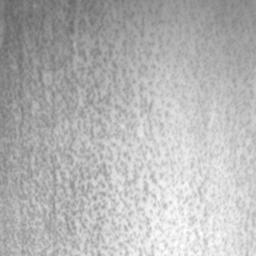Pitted surface: (0, 0, 256, 256), (226, 71, 256, 168), (183, 44, 214, 137), (211, 13, 244, 35), (224, 160, 244, 187)
